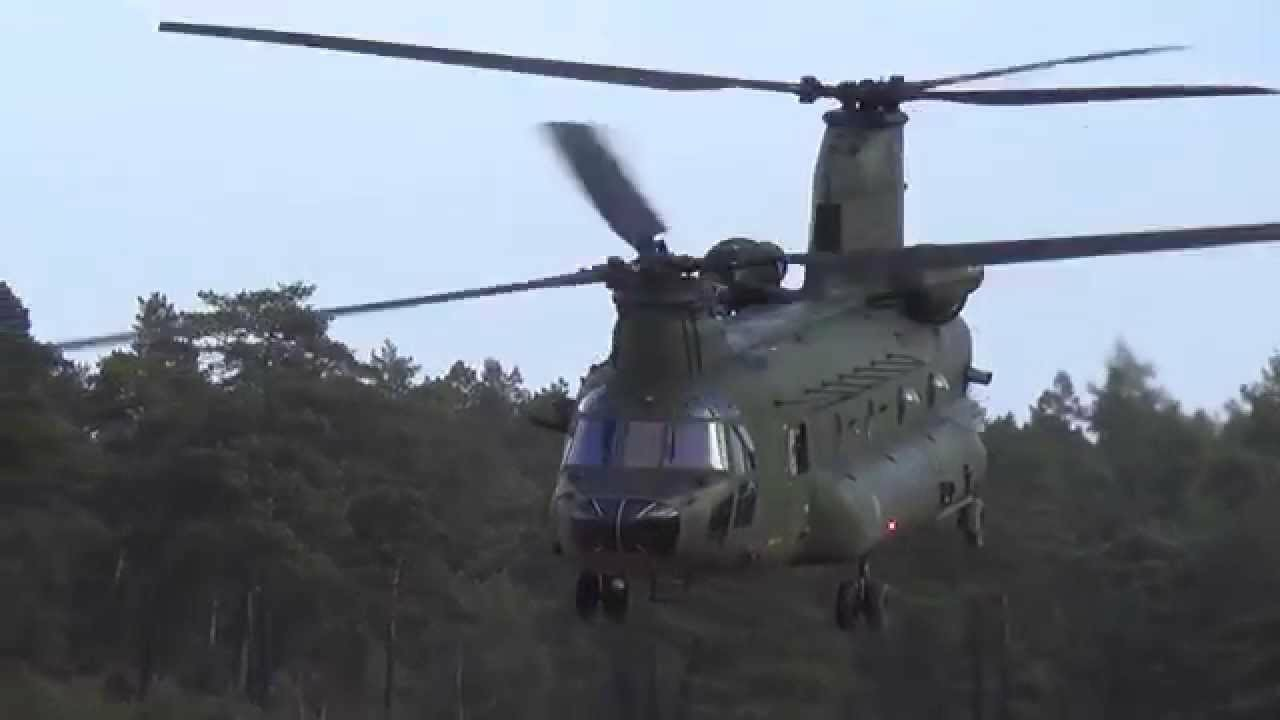chinook: (306, 25, 1145, 628)
